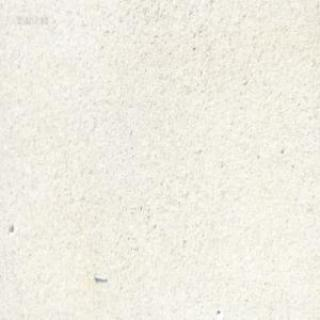Nailtrack_idkeyframe: (91, 270, 108, 281)
